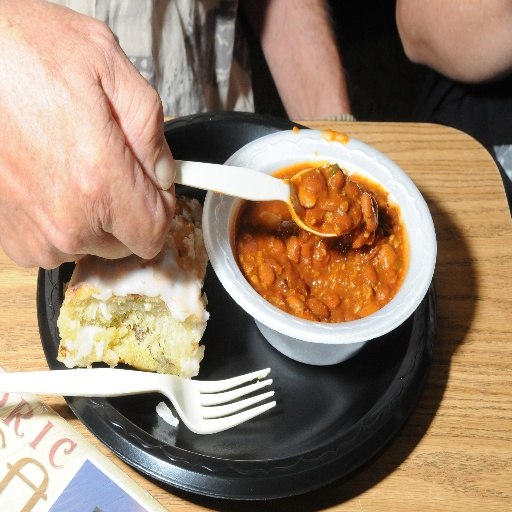hand: (0, 0, 180, 277)
